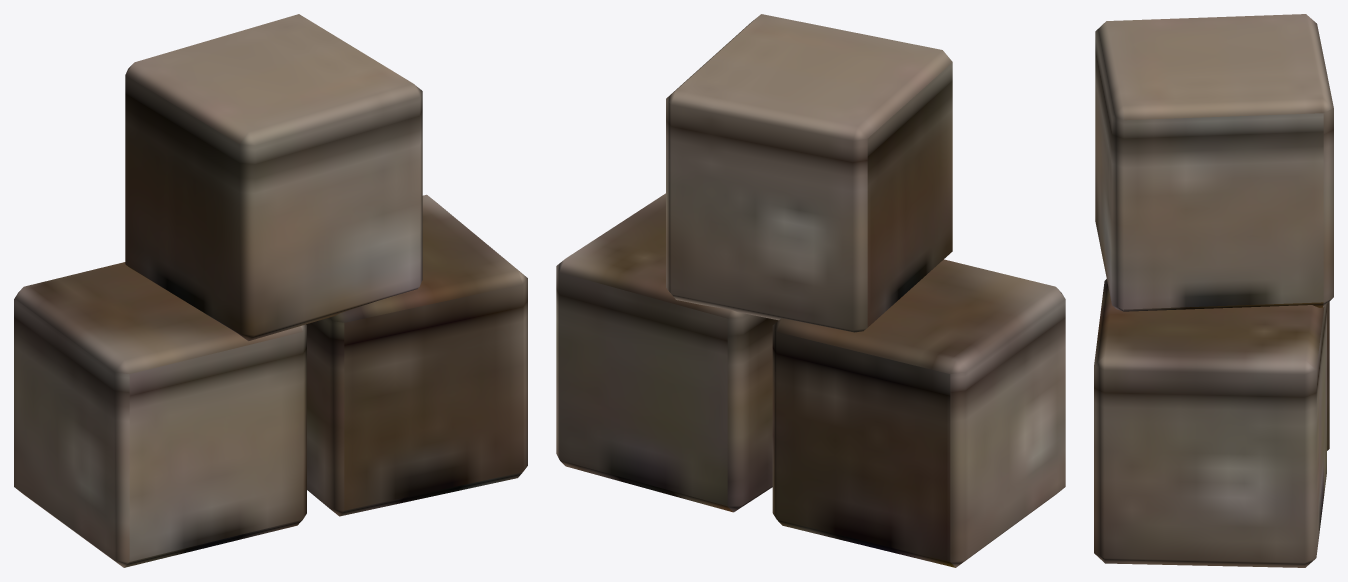
3 views of the same model, side by side, from view 1: azimuth 30°, elevation 25°; view 2: azimuth 150°, elevation 25°; view 3: azimuth 270°, elevation 25° (orthographic).
Visible parts, largest first — view 1: polySurface1, polySurface2, polySurface3; view 2: polySurface1, polySurface2, polySurface3; view 3: polySurface1, polySurface3, polySurface2.
Part boxes in pixels (x1,y1,x2,y2): polySurface1: (125, 14, 422, 340); polySurface2: (14, 262, 306, 567); polySurface3: (306, 194, 527, 516); polySurface1: (666, 14, 952, 332); polySurface2: (772, 259, 1065, 567); polySurface3: (556, 193, 778, 512); polySurface1: (1095, 14, 1333, 311); polySurface3: (1094, 279, 1326, 567); polySurface2: (1327, 301, 1329, 450).
Size of the model in its own units: 1.39 by 1.32 by 0.6949.
Materials: 1 (1 with a texture image).
